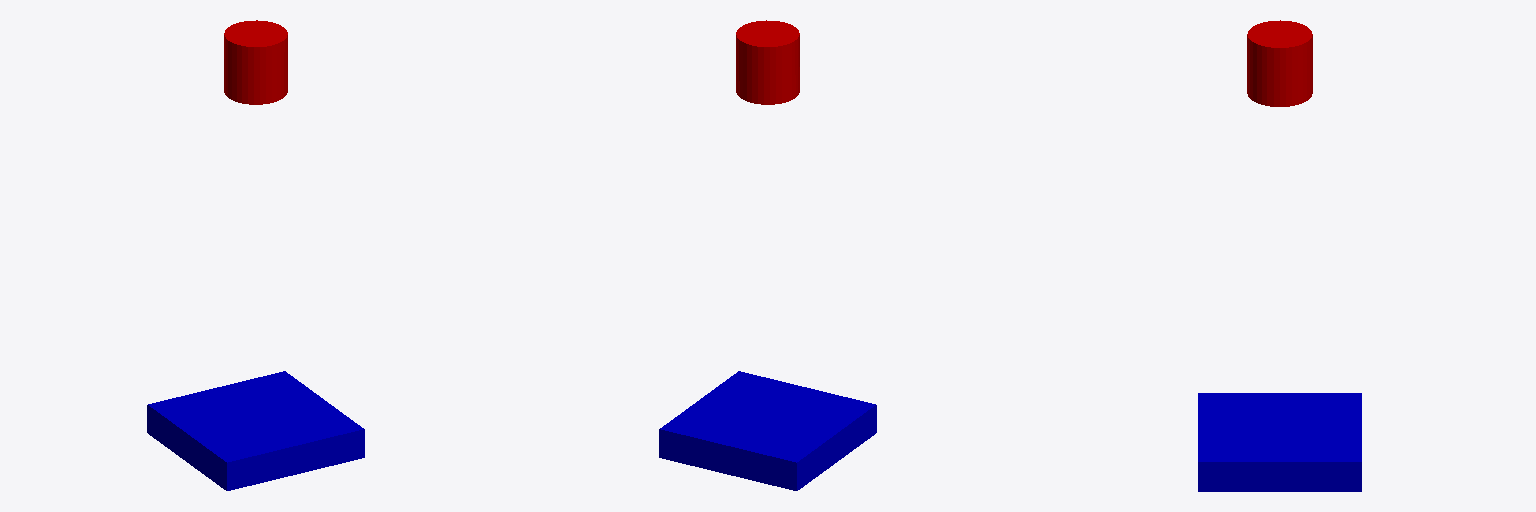
The robot description file, URDF, robot "two_link_robot":
<?xml version="1.0"?>
<robot name="two_link_robot">

  <link name="base_link">
    <origin xyz="0 0 0" rpy="0 0 0"/>
    <inertial>
      <mass value="10.0"/>
      <inertia ixx="1.0" ixy="0.0" ixz="0.0"
               iyy="1.0" iyz="0.0"
               izz="1.0"/>
    </inertial>
    <visual>
      <origin xyz="0 0 0" rpy="0 0 0"/>
      <geometry>
        <box size="0.5 0.5 0.1"/>
      </geometry>
      <material name="blue">
        <color rgba="0 0 0.8 1"/>
      </material>
    </visual>
    <collision>
      <origin xyz="0 0 0" rpy="0 0 0"/>
      <geometry>
        <box size="0.5 0.5 0.1"/>
      </geometry>
    </collision>
  </link>


  <link name="lidar_link">
    <origin xyz="0 0 0" rpy="0 0 0"/>
    <inertial>
      <mass value="0.5"/>
      <inertia ixx="0.01" ixy="0.0" ixz="0.0"
               iyy="0.01" iyz="0.0"
               izz="0.01"/>
    </inertial>
    <visual>
      <origin xyz="0 0 0" rpy="0 0 0"/>
      <geometry>
        <cylinder length="0.2" radius="0.1"/>
      </geometry>
      <material name="red">
        <color rgba="0.8 0 0 1"/>
      </material>
    </visual>
    <collision>
      <origin xyz="0 0 0" rpy="0 0 0"/>
      <geometry>
        <cylinder length="0.2" radius="0.1"/>
      </geometry>
    </collision>
  </link>


  <joint name="base_to_lidar_joint" type="fixed">
    <parent link="base_link"/>
    <child link="lidar_link"/>
    <origin xyz="0 0 1.28" rpy="0 3.14 3.14"/>
    <limit effort="1000.0" velocity="1000.0"/>
    <joint_properties damping="0.0" friction="0.0"/>
  </joint>
</robot>
    

--- What the picture shows (computed from the rendered views, not written in the file) ---
Views: 3 orthographic renders of the robot side by side, from view 1: azimuth 30°, elevation 25°; view 2: azimuth 150°, elevation 25°; view 3: azimuth 270°, elevation 25°.
Robot: two_link_robot — 2 links, 1 joints (1 fixed); root link base_link; default pose: all joints at 0.
Links seen in each view (by area): view 1: base_link, lidar_link; view 2: base_link, lidar_link; view 3: base_link, lidar_link.
Link boxes in pixels (bbox=[...]): base_link: bbox=[147, 371, 364, 490]; lidar_link: bbox=[224, 20, 287, 104]; base_link: bbox=[659, 371, 876, 490]; lidar_link: bbox=[736, 20, 799, 104]; base_link: bbox=[1198, 393, 1361, 491]; lidar_link: bbox=[1247, 20, 1312, 106].
Bounding box of the posed robot: 0.5 × 0.5 × 1.43 m (x, y, z).
Geometry: primitives only (box / cylinder / sphere), no mesh files.